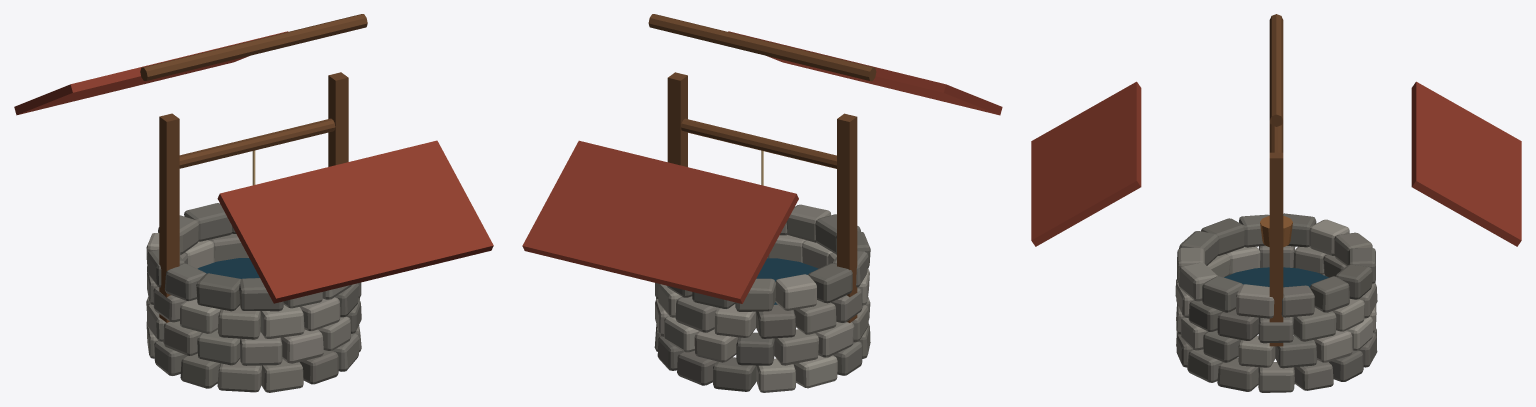
File: prop_well.glb
3 renders of one model, left to right at view 1: azimuth 30°, elevation 25°; view 2: azimuth 150°, elevation 25°; view 3: azimuth 270°, elevation 25°, orthographic. The views are drawn at different scales.
Parts seen in each view (by area): view 1: roof.001, ridge, wpost, roof, axle, wpost.001, stone.050, stone.038, stone.037, stone.009, stone.023, stone.022 (+21 smaller); view 2: roof, ridge, wpost, roof.001, axle, wpost.001, stone.047, stone.048, stone.019, stone.004, stone.033, stone.018 (+19 smaller); view 3: roof, roof.001, wpost.001, ridge, water, stone.055, stone.029, stone.043, stone.054, stone.013, stone.014, stone.041 (+27 smaller).
Boxes of the visible parts, bbox=[...] form: roof.001: bbox=[217, 140, 493, 303]; ridge: bbox=[140, 14, 367, 80]; wpost: bbox=[159, 113, 179, 322]; roof: bbox=[14, 31, 288, 115]; axle: bbox=[179, 118, 335, 168]; wpost.001: bbox=[328, 72, 348, 166]; stone.050: bbox=[196, 273, 240, 311]; stone.038: bbox=[260, 305, 304, 338]; stone.037: bbox=[218, 305, 260, 339]; stone.009: bbox=[217, 359, 261, 392]; stone.023: bbox=[240, 332, 282, 365]; stone.022: bbox=[197, 329, 240, 365]; roof: bbox=[522, 140, 798, 303]; ridge: bbox=[648, 14, 876, 81]; wpost: bbox=[837, 113, 857, 322]; roof.001: bbox=[728, 31, 1002, 115]; axle: bbox=[681, 118, 836, 168]; wpost.001: bbox=[667, 72, 687, 166]; stone.047: bbox=[775, 274, 816, 310]; stone.048: bbox=[808, 263, 852, 303]; stone.019: bbox=[774, 329, 818, 365]; stone.004: bbox=[713, 357, 756, 391]; stone.033: bbox=[756, 304, 795, 338]; stone.018: bbox=[736, 332, 774, 365]; roof: bbox=[1411, 81, 1521, 246]; roof.001: bbox=[1031, 81, 1141, 246]; wpost.001: bbox=[1269, 152, 1283, 346]; ridge: bbox=[1269, 14, 1283, 126]; water: bbox=[1224, 267, 1328, 287]; stone.055: bbox=[1236, 284, 1274, 318]; stone.029: bbox=[1293, 307, 1336, 341]; stone.043: bbox=[1310, 276, 1349, 312]; stone.054: bbox=[1202, 276, 1242, 312]; stone.013: bbox=[1217, 358, 1258, 391]; stone.014: bbox=[1275, 335, 1317, 368]; stone.041: bbox=[1217, 309, 1258, 340].
Bounding box in the file's own units: 1.72 × 2.31 × 3.55.
